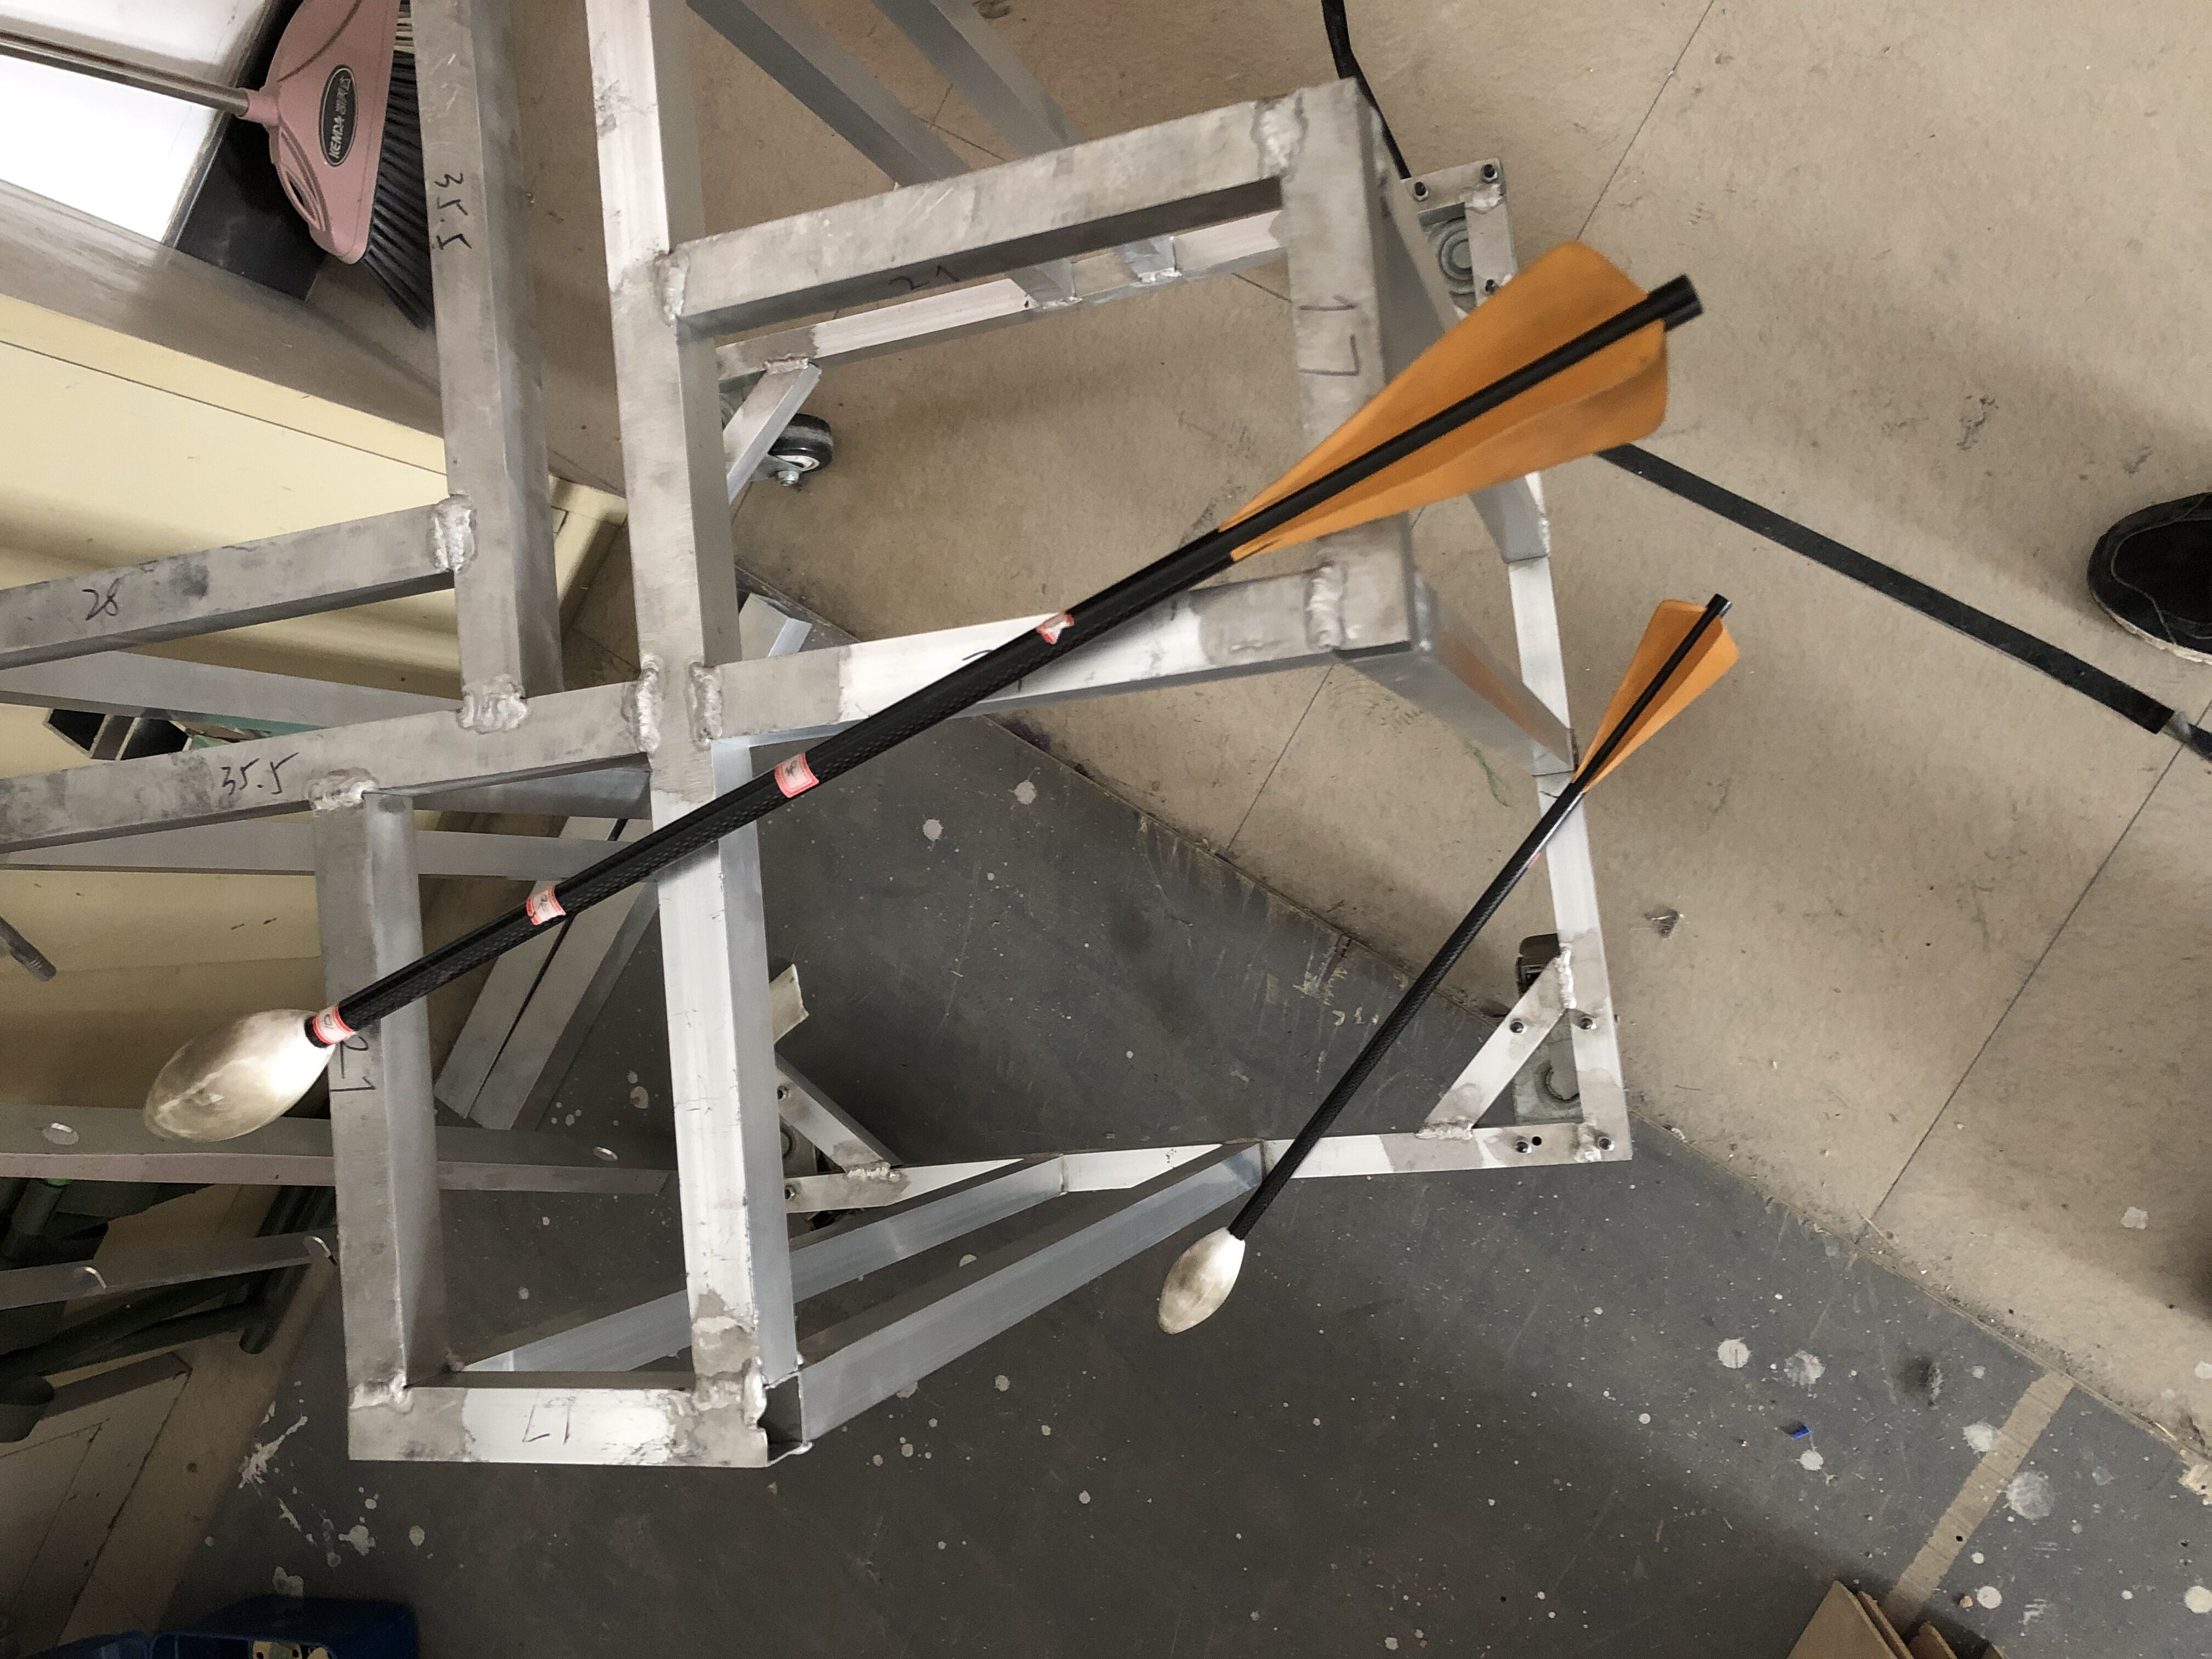arrow: (139, 242, 1703, 1143), (1153, 591, 1742, 1331)
arrowFront: (141, 1002, 331, 1145), (1157, 1227, 1251, 1333)
